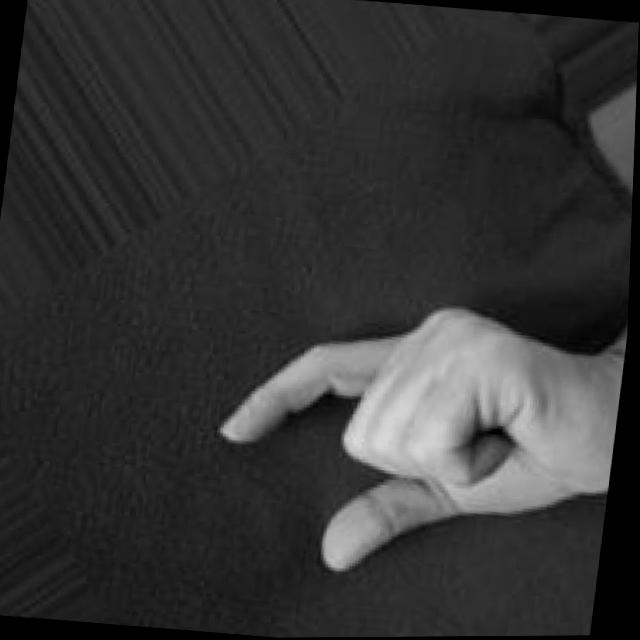C: (196, 286, 622, 597)
